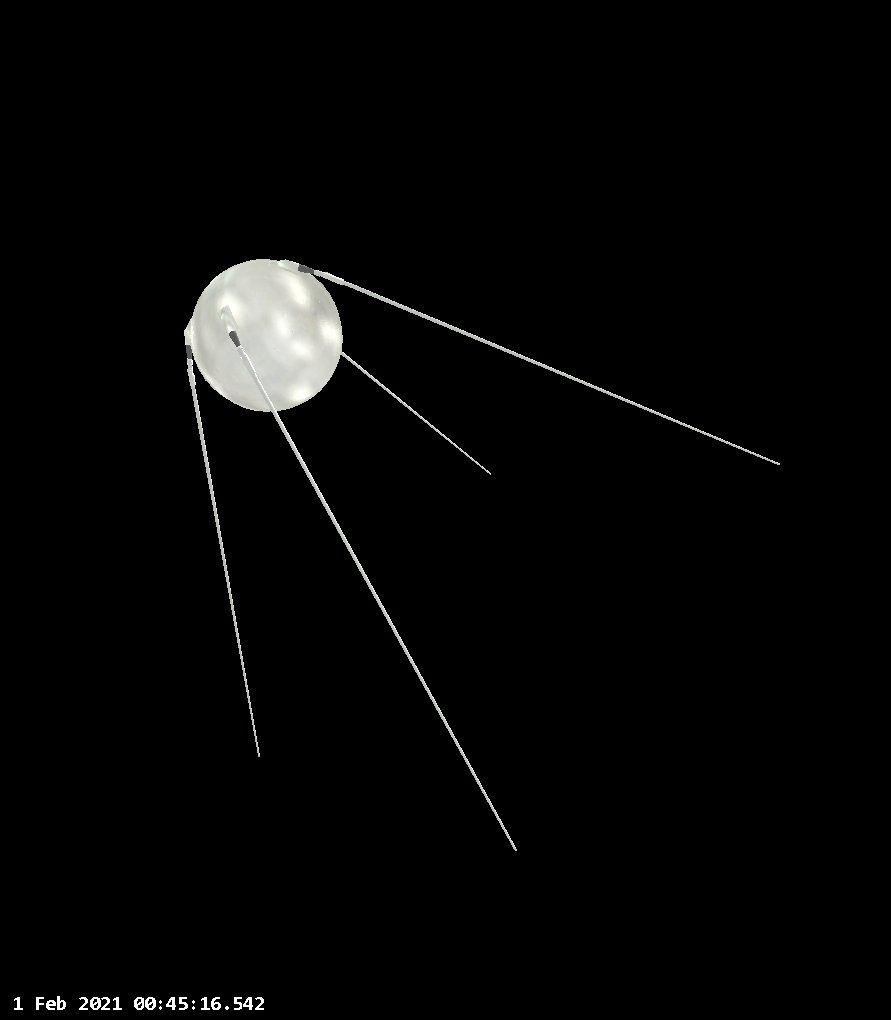antenna: (217, 309, 523, 854), (276, 256, 789, 474), (175, 318, 270, 768), (327, 335, 495, 473)
body: (187, 254, 347, 413)
